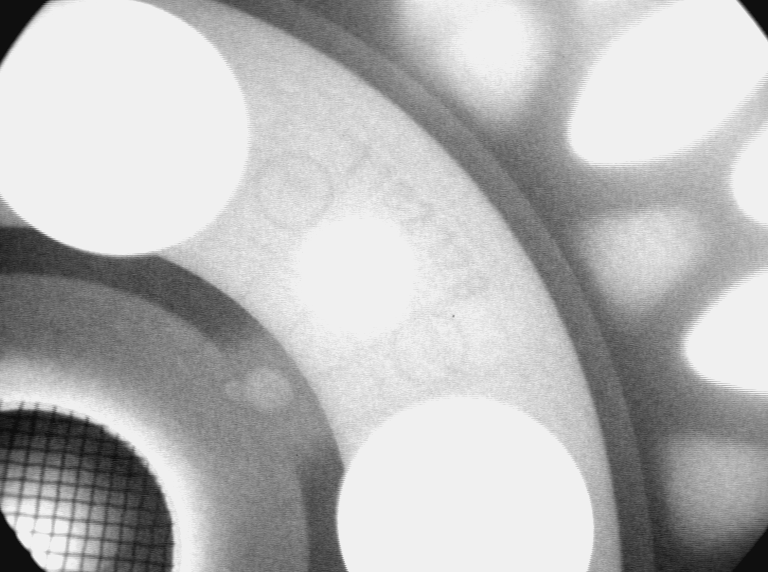defect: (221, 361, 300, 419)
